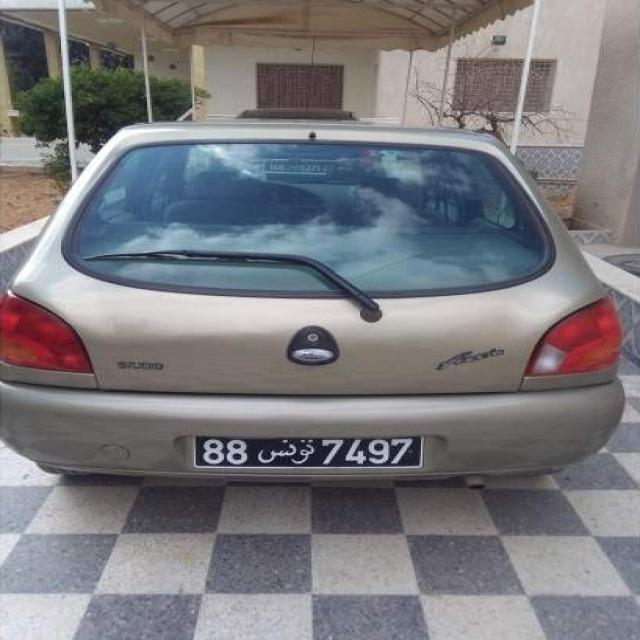licence plate: (193, 436, 425, 468)
